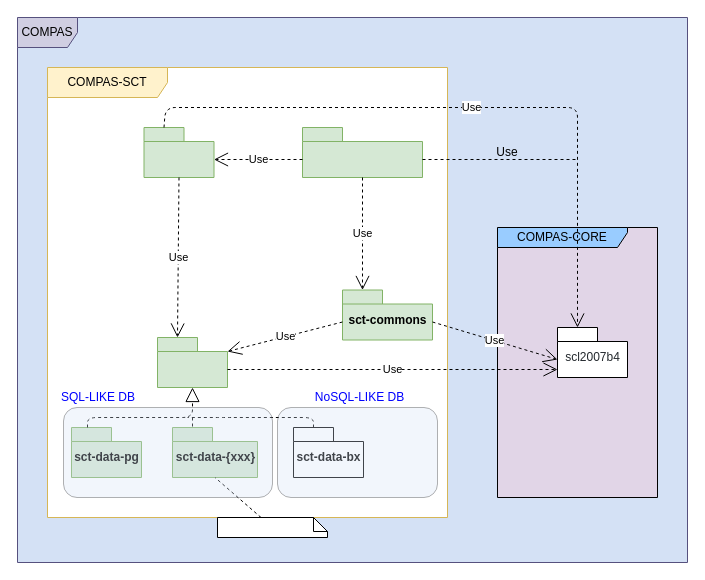
Image size: 705x580. Some labels were removed from this diagram. The shapes that lost their labels are listed below. From the top down, each one's centre as x and y in pixels, then its label:
At pixel 178 152: "sct-service".
At pixel 362 152: "sct-app (automation app)".
At pixel 192 362: "sct-data".
At pixel 272 527: "any custom DB".
